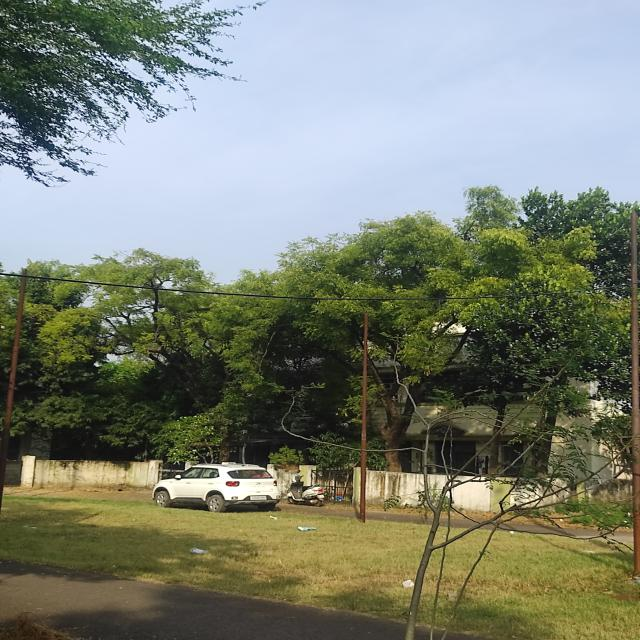Neem Tree: (251, 229, 499, 465)
